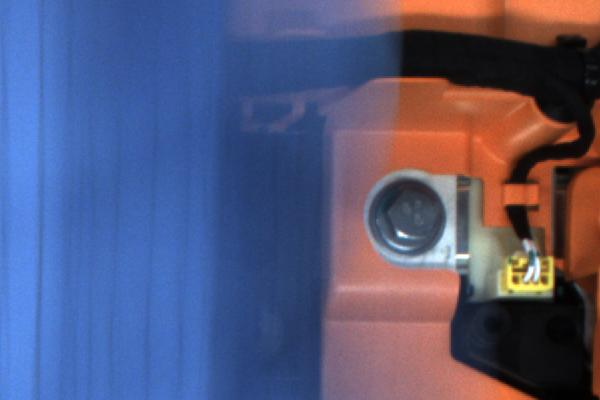nut_b: (362, 175, 452, 266)
